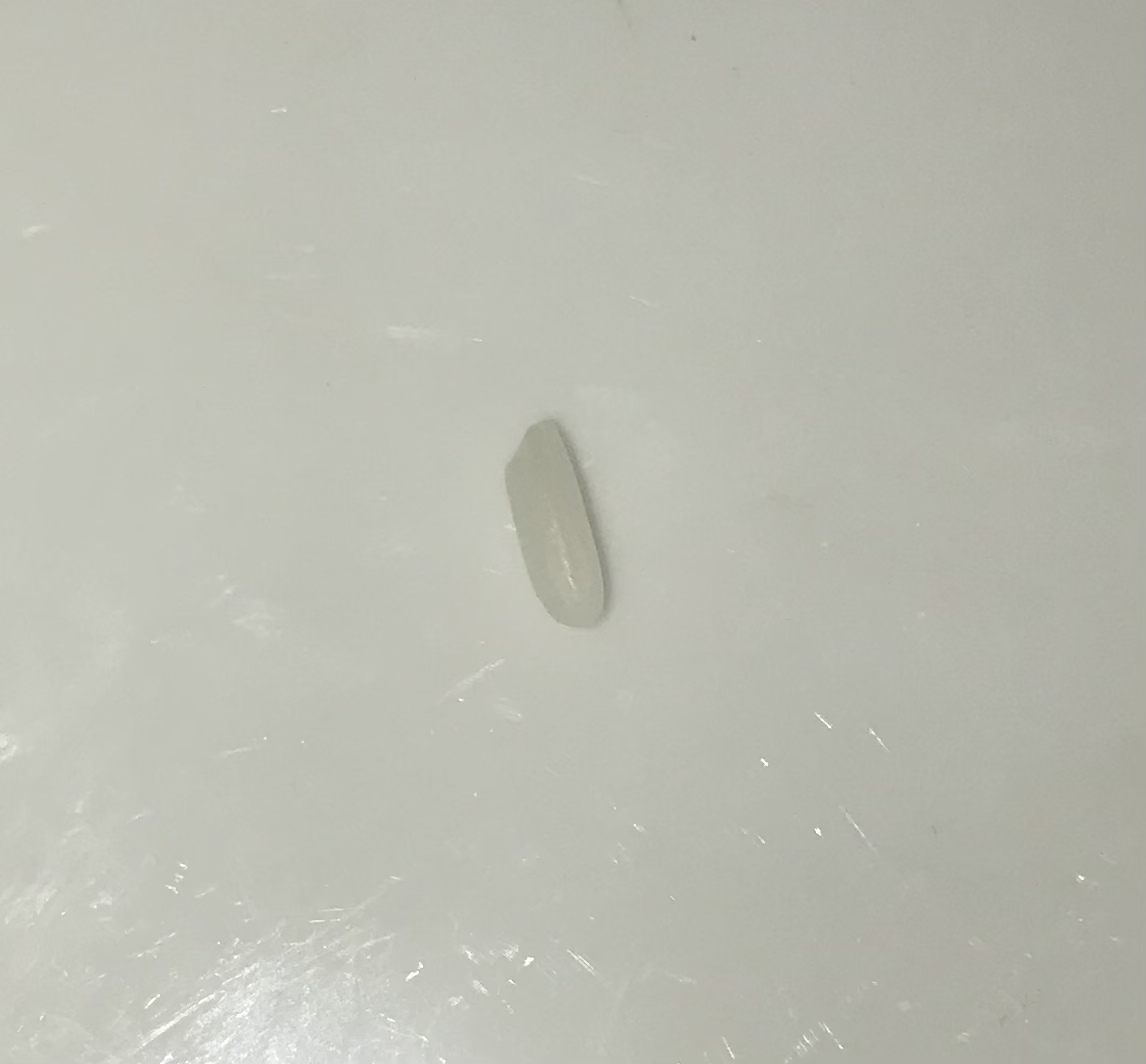Gao Lai Sua: (494, 408, 624, 650)
